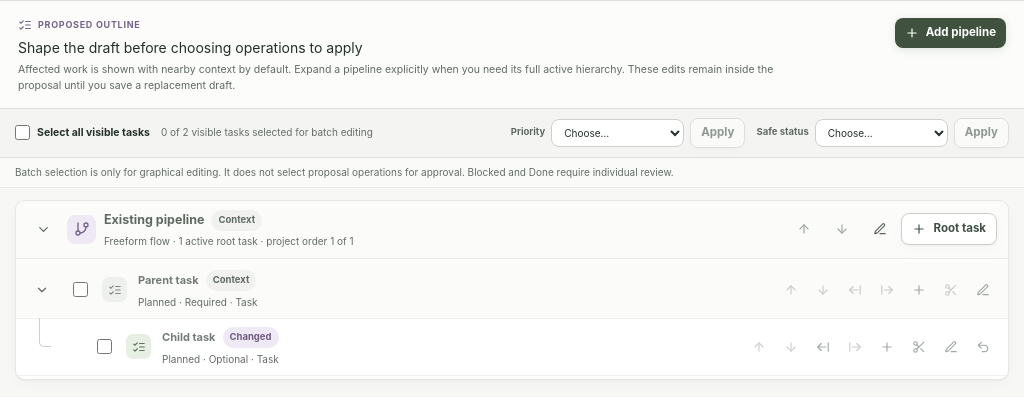
Test case: ProposedOutline accessibility and pipeline controls › uses nested list semantics and exposes expansion state on named buttons
What coordinates should you click on to do the following:
click the button named "Collapse Parent task"
I would click on:
 (42, 290)
Its box is [26, 274, 58, 306].
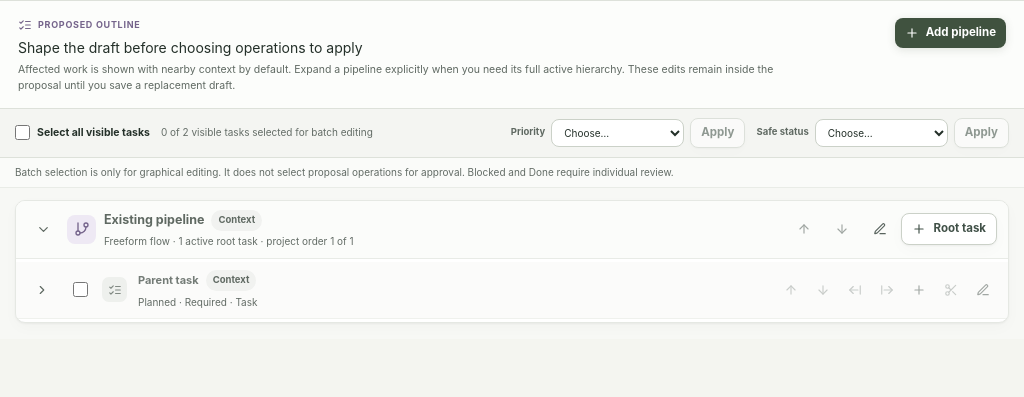
Result: the button named "Expand Parent task" is collapsed at [26, 274, 58, 306]
